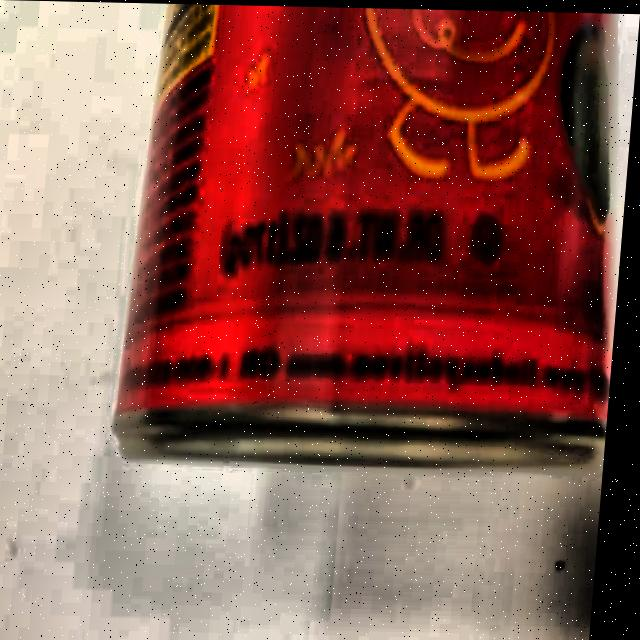metal: (106, 3, 640, 476)
